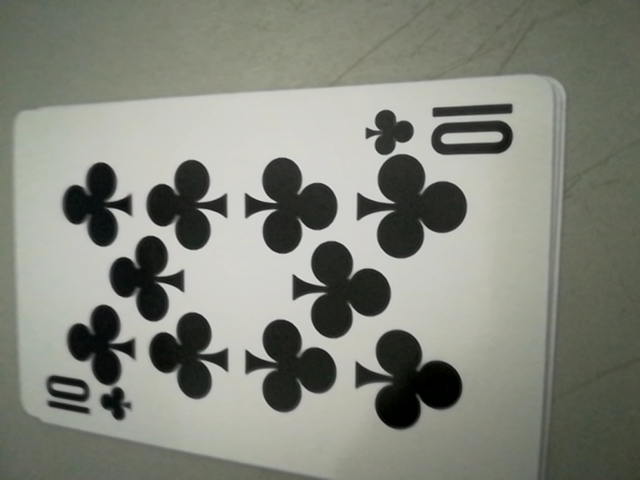mh 10: (363, 94, 521, 160), (35, 374, 136, 429)
